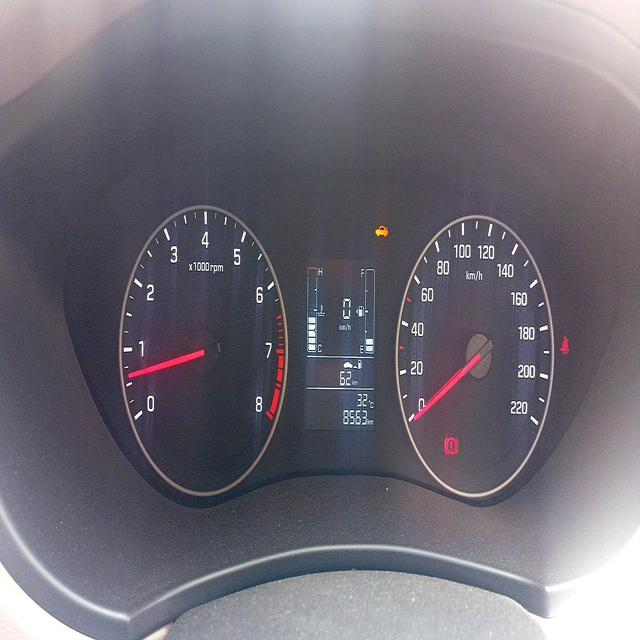odometer: (340, 407, 368, 426)
